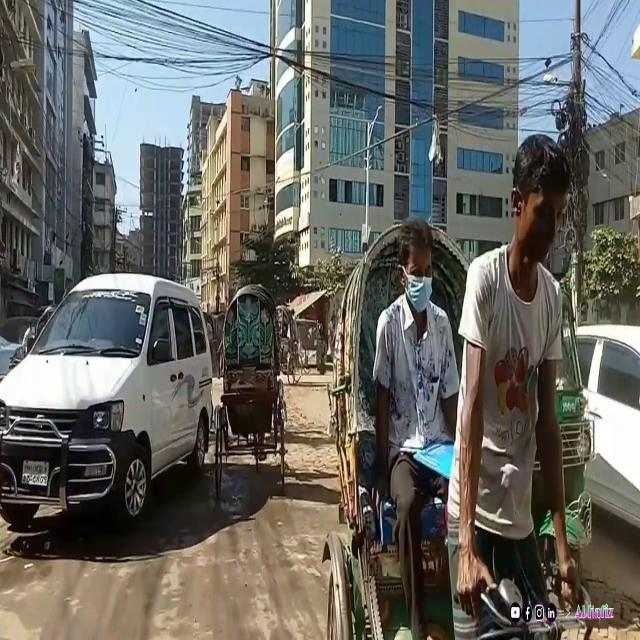white: (0, 271, 214, 550), (552, 313, 640, 547)
